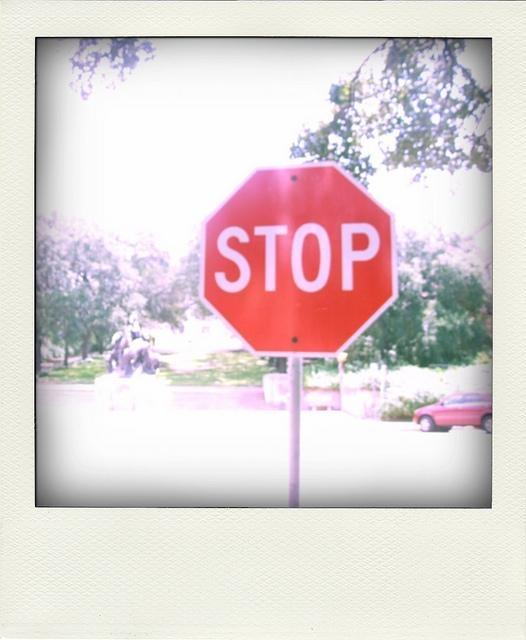car: (412, 392, 492, 433)
